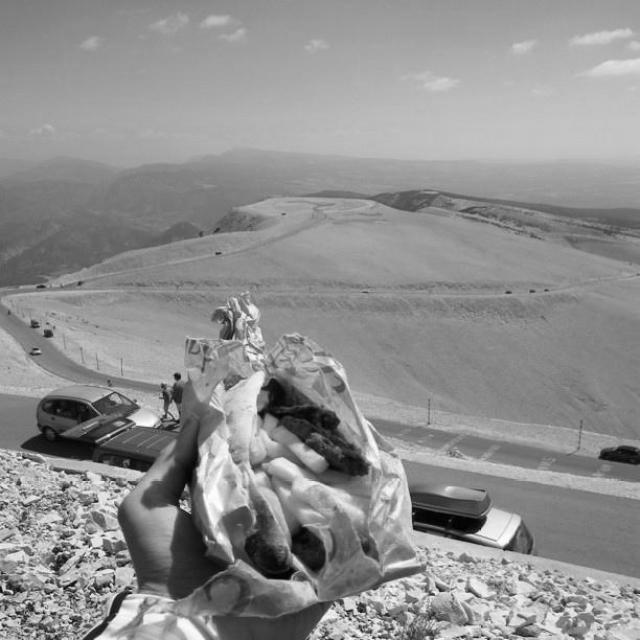vehicle: (404, 478, 539, 558), (35, 384, 165, 441), (57, 418, 181, 472), (599, 445, 639, 465), (28, 345, 40, 355), (43, 330, 55, 339), (32, 318, 41, 328)
